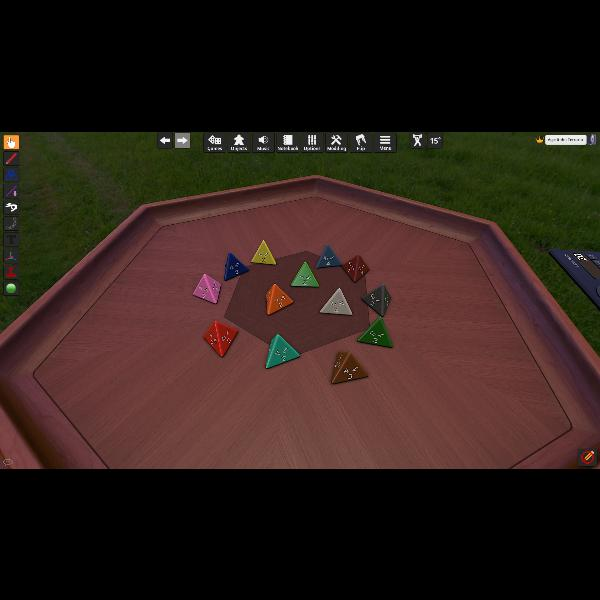d4: (202, 320, 238, 357), (265, 334, 299, 368), (330, 350, 366, 382), (357, 316, 391, 348), (362, 283, 390, 317), (193, 274, 221, 305), (320, 287, 351, 315), (266, 282, 292, 314), (344, 252, 370, 282), (224, 252, 248, 282), (291, 262, 317, 286), (251, 241, 275, 266), (316, 244, 340, 268)
